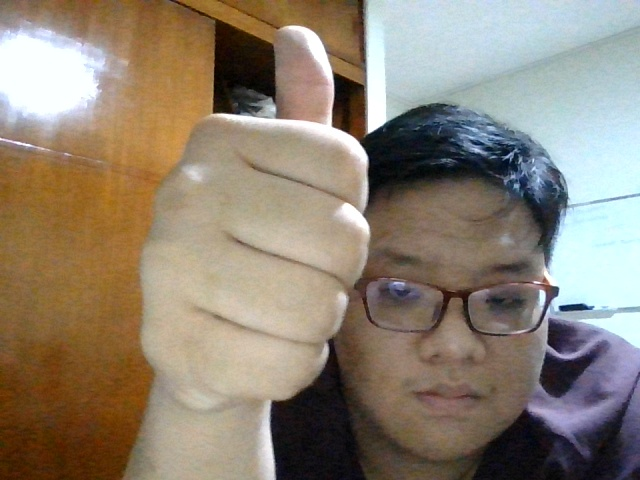si: (136, 22, 376, 404)
